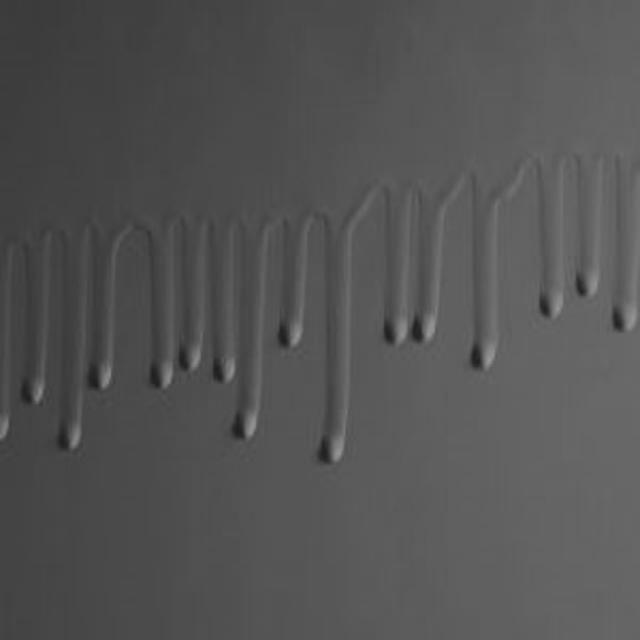paint drips: (202, 136, 370, 478), (355, 120, 521, 378), (508, 104, 640, 346), (132, 160, 238, 394), (39, 174, 116, 458), (0, 196, 57, 475)
